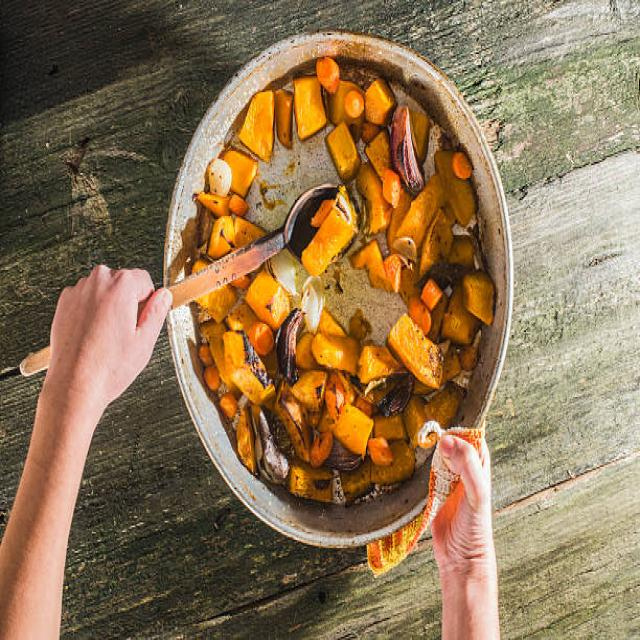pumpkin: (193, 80, 493, 501)
